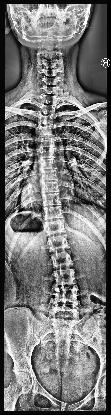Vertebrae: (53, 284, 80, 306), (49, 250, 74, 270), (52, 269, 78, 287), (47, 233, 71, 252), (42, 220, 66, 236), (42, 207, 64, 221), (42, 193, 62, 207), (35, 124, 56, 136), (40, 180, 59, 193), (38, 148, 58, 160), (40, 170, 59, 182), (40, 94, 58, 106), (36, 114, 54, 126), (38, 136, 56, 148), (40, 159, 58, 171), (38, 104, 56, 115)
